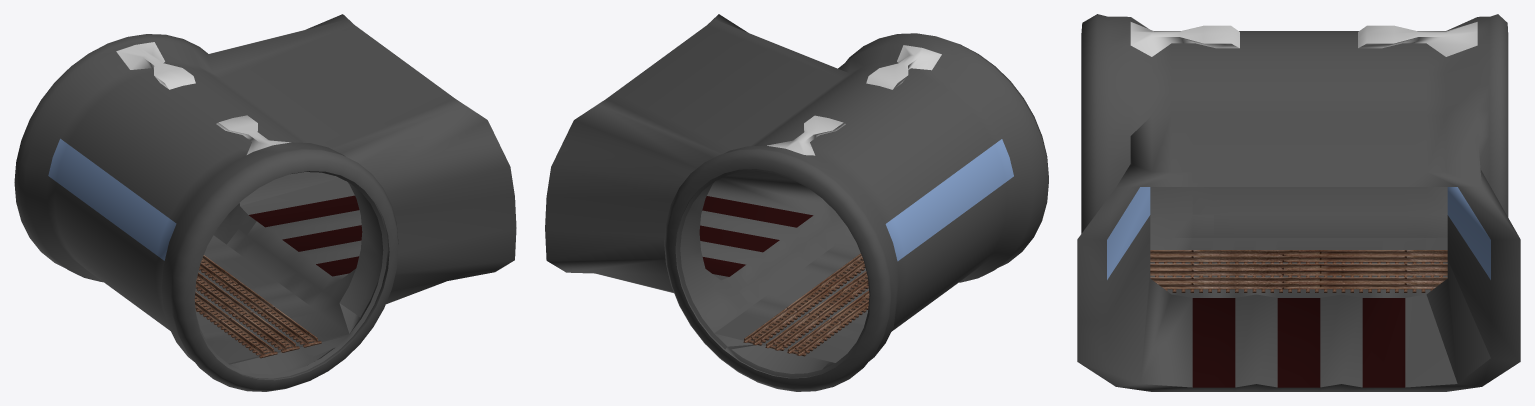
The model's file is subw_trainstation.fbx.
The picture shows the model from 3 angles, left to right: view 1: azimuth 30°, elevation 25°; view 2: azimuth 150°, elevation 25°; view 3: azimuth 270°, elevation 25°; orthographic projection. The views are drawn at different scales.
Parts seen in each view (by area): view 1: subw_S_tube, subw_S_LaR, subw_S_LaM, subw_S_LaL; view 2: subw_S_tube, subw_S_LaR, subw_S_LaM, subw_S_LaL; view 3: subw_S_tube, subw_S_LaM, subw_S_LaR, subw_S_LaL.
Boxes of the visible parts, x1,y1,x2,y2 form: subw_S_tube: [14, 14, 516, 391]; subw_S_LaR: [199, 255, 321, 347]; subw_S_LaM: [195, 272, 299, 352]; subw_S_LaL: [194, 291, 277, 358]; subw_S_tube: [545, 14, 1048, 391]; subw_S_LaR: [743, 253, 865, 345]; subw_S_LaM: [765, 271, 868, 350]; subw_S_LaL: [787, 290, 869, 356]; subw_S_tube: [1077, 14, 1520, 391]; subw_S_LaM: [1150, 263, 1447, 277]; subw_S_LaR: [1150, 277, 1447, 292]; subw_S_LaL: [1150, 250, 1447, 263].
Bounding box in the file's own units: 276 × 185 × 249.
5 materials, 1 textured.
